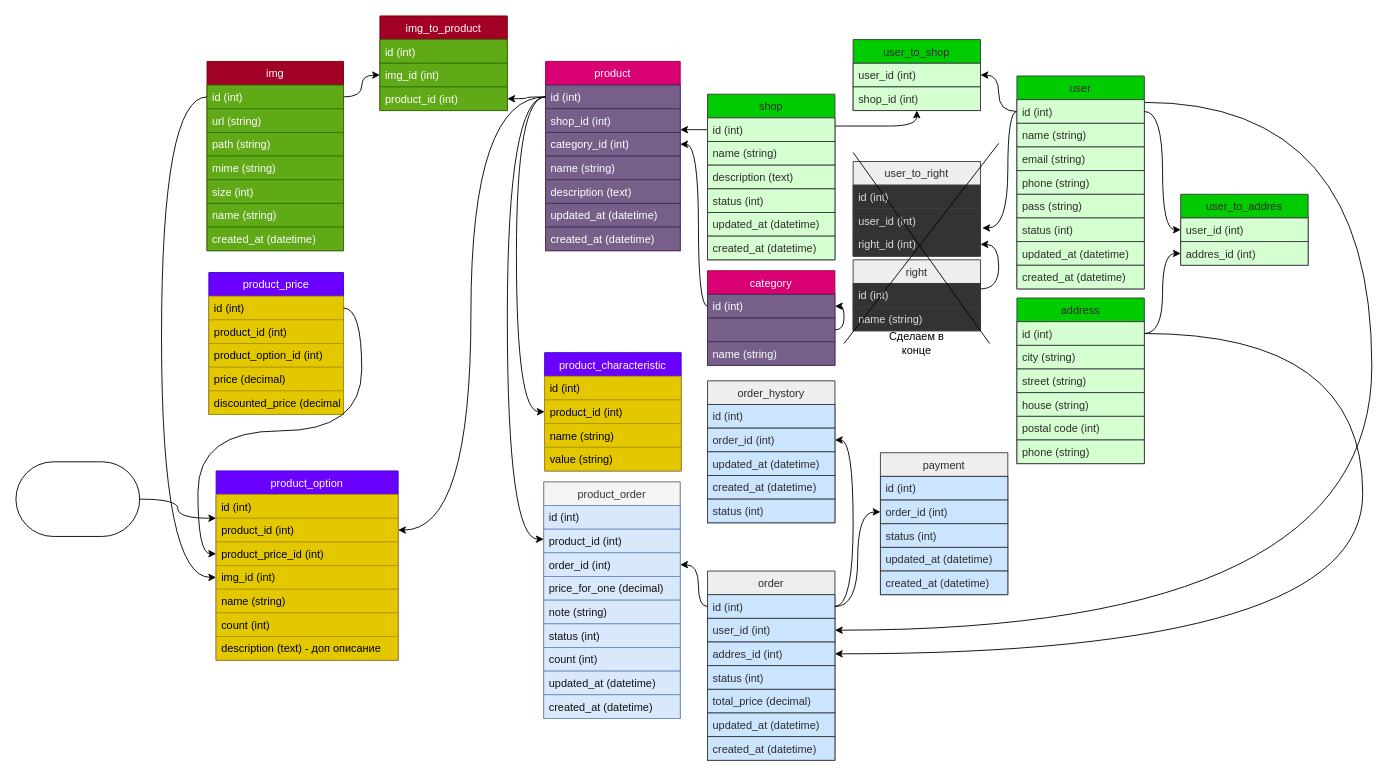
Image size: 1388x779. Some labels were removed from this diagram. The shapes that lost their labels are listed below. From the top down, each one's centre as x and y in pixels, then its label:
At [771,329]: "parent_id (int)".
At [77,498]: "Опции продукта, размер, цвет и тд".
